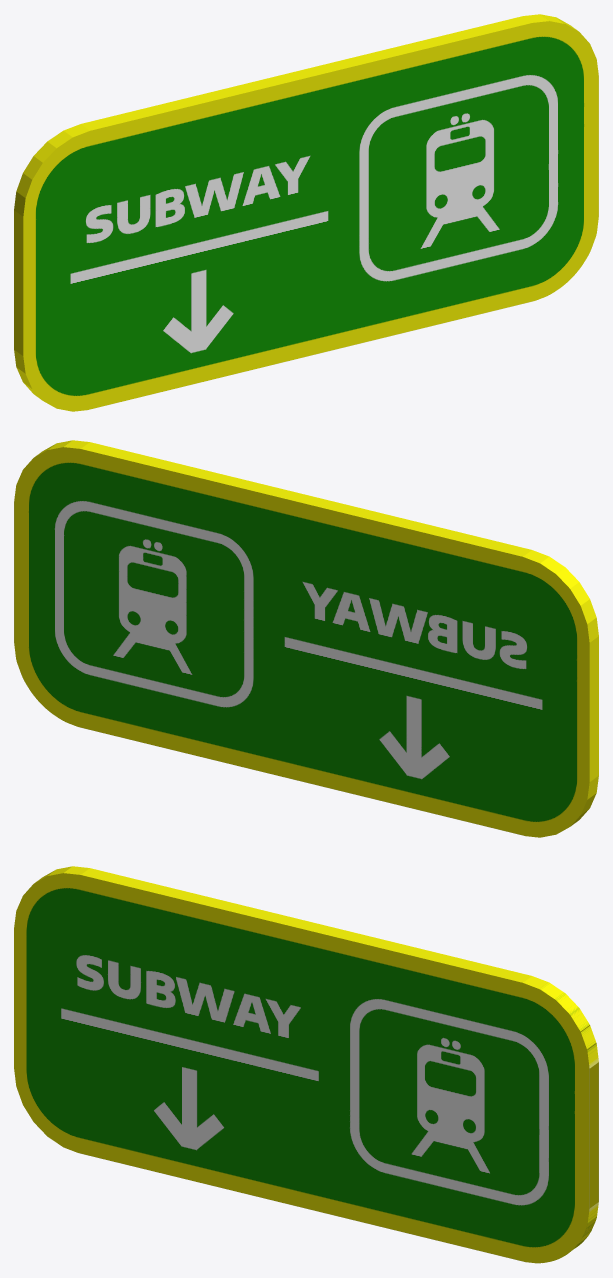
The model's file is subwayTabela.fbx.
3 views of the same model, one above another, from view 1: azimuth 30°, elevation 25°; view 2: azimuth 150°, elevation 25°; view 3: azimuth 330°, elevation 25° (orthographic).
Parts seen in each view (by area): view 1: Cube; view 2: Cube; view 3: Cube.
Part boxes in pixels (x1,y1,x2,y2): Cube: (14, 14, 598, 411); Cube: (14, 440, 598, 837); Cube: (14, 866, 598, 1263).
Bounding box in the file's own units: 7.86 × 3.64 × 0.2216.
Materials: 1 (1 with a texture image).
